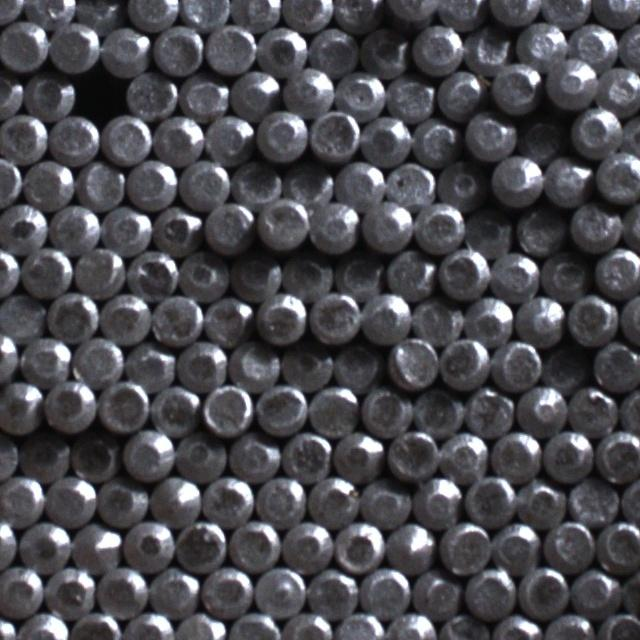tool: (544, 55, 599, 110), (200, 472, 256, 524), (308, 198, 359, 255), (439, 520, 492, 574), (307, 108, 360, 162), (490, 154, 543, 208), (42, 378, 95, 432), (489, 59, 541, 114), (436, 246, 488, 300), (464, 472, 516, 526), (541, 429, 593, 482), (517, 565, 569, 618), (202, 199, 254, 252), (306, 474, 359, 526), (18, 518, 71, 570), (436, 430, 489, 482), (125, 247, 179, 298), (255, 383, 306, 437), (310, 290, 361, 344), (438, 334, 488, 389), (283, 65, 335, 117), (490, 430, 542, 482), (254, 564, 306, 616), (410, 568, 462, 620), (463, 111, 515, 163), (176, 518, 228, 570), (46, 289, 98, 341), (386, 520, 438, 572), (539, 248, 591, 300), (411, 388, 463, 440), (386, 336, 438, 388), (566, 384, 618, 436), (570, 106, 622, 158), (334, 252, 386, 304), (282, 252, 334, 304), (413, 201, 464, 254), (464, 566, 515, 619), (566, 293, 617, 346), (150, 293, 201, 346), (19, 245, 72, 296), (148, 474, 201, 525), (409, 295, 462, 346), (332, 429, 383, 482), (307, 384, 357, 438), (386, 428, 436, 482), (360, 114, 411, 166), (256, 292, 307, 344), (152, 23, 203, 75), (568, 200, 620, 251), (122, 427, 173, 479), (202, 383, 254, 434), (204, 22, 255, 74), (463, 293, 514, 345), (228, 518, 279, 570), (462, 386, 514, 437), (281, 342, 333, 393), (411, 22, 462, 74), (411, 475, 462, 527), (544, 518, 595, 570), (332, 520, 383, 572), (257, 198, 308, 250), (360, 292, 411, 344), (491, 338, 541, 391), (178, 157, 228, 210), (281, 518, 331, 571), (358, 478, 411, 528), (334, 67, 385, 118), (74, 244, 125, 295), (19, 334, 70, 385), (123, 519, 174, 570), (228, 340, 279, 391), (464, 208, 515, 259), (229, 66, 279, 118), (516, 292, 566, 344), (126, 157, 176, 209), (281, 429, 331, 481), (359, 566, 409, 618), (200, 564, 250, 616), (22, 158, 72, 210), (255, 473, 307, 523), (255, 110, 305, 162), (384, 248, 436, 298), (100, 291, 150, 343), (307, 566, 357, 618), (308, 24, 358, 76), (257, 25, 307, 77), (360, 200, 410, 252), (435, 68, 485, 119), (124, 70, 175, 120), (100, 113, 150, 164), (515, 206, 566, 256), (517, 382, 568, 432), (152, 113, 202, 164), (360, 386, 410, 437), (99, 380, 149, 431), (48, 23, 98, 74), (152, 202, 202, 253), (540, 343, 590, 394), (70, 432, 120, 483), (50, 202, 101, 252), (517, 111, 567, 162), (516, 477, 566, 528), (282, 160, 332, 211), (76, 67, 126, 118), (203, 292, 252, 344), (359, 26, 408, 78), (230, 159, 282, 208), (49, 113, 99, 163), (385, 158, 435, 208), (178, 252, 228, 302), (175, 431, 225, 481), (175, 340, 225, 390), (230, 253, 280, 303), (570, 567, 620, 617), (333, 342, 383, 392), (490, 520, 540, 570), (489, 250, 539, 300), (150, 382, 200, 432), (96, 477, 146, 527), (72, 521, 122, 571), (48, 565, 98, 615), (21, 430, 71, 480), (99, 25, 148, 76), (21, 70, 72, 119), (333, 159, 384, 208), (543, 157, 592, 208), (149, 565, 198, 616), (567, 19, 616, 70), (463, 22, 514, 71), (592, 340, 640, 392), (594, 428, 640, 482), (179, 71, 229, 120), (229, 432, 279, 481), (102, 204, 152, 253), (45, 475, 95, 524), (204, 111, 252, 162), (593, 245, 640, 297), (0, 202, 47, 254), (125, 342, 174, 391), (100, 566, 149, 615), (77, 159, 125, 209), (568, 476, 618, 524), (74, 336, 124, 384), (436, 158, 484, 208), (517, 19, 567, 67), (595, 150, 640, 203), (0, 564, 44, 618), (411, 116, 459, 165), (596, 518, 640, 571), (387, 72, 435, 120), (0, 20, 46, 70), (0, 112, 46, 162), (0, 291, 44, 341), (0, 474, 43, 524), (0, 382, 41, 434), (599, 63, 640, 113), (227, 609, 280, 640), (70, 608, 121, 640), (280, 609, 332, 640), (385, 609, 436, 640), (174, 610, 226, 640), (333, 609, 383, 640), (18, 609, 68, 640), (542, 611, 595, 640), (281, 0, 332, 30), (127, 0, 178, 30), (121, 610, 172, 640), (332, 0, 381, 31), (179, 0, 230, 29), (230, 0, 279, 30), (541, 0, 592, 28), (438, 612, 489, 640), (74, 0, 121, 30), (490, 613, 542, 640), (435, 0, 485, 28), (26, 0, 75, 28), (385, 0, 436, 26), (488, 0, 540, 25), (597, 610, 640, 640), (593, 0, 640, 26), (618, 115, 640, 164), (618, 22, 640, 70), (0, 155, 21, 205), (0, 68, 21, 118)
